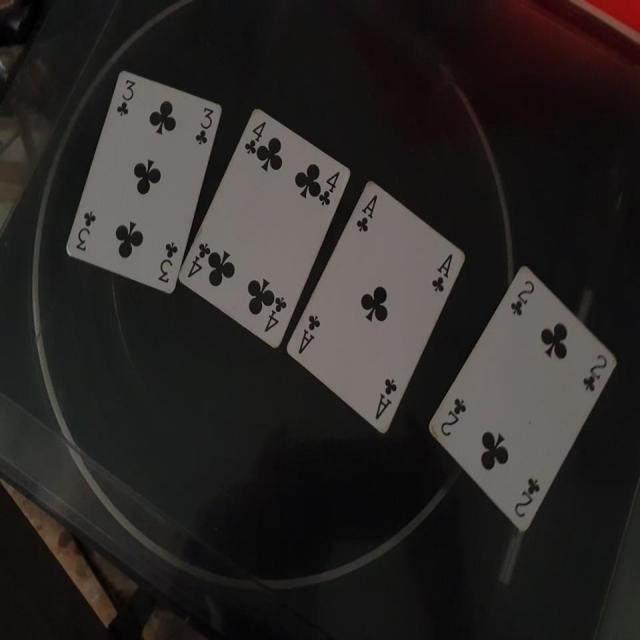2 Trefoils: (428, 262, 617, 535)
3 Trefoils: (64, 68, 223, 298)
4 Trefoils: (180, 103, 353, 350)
A Trefoils: (286, 178, 468, 437)
